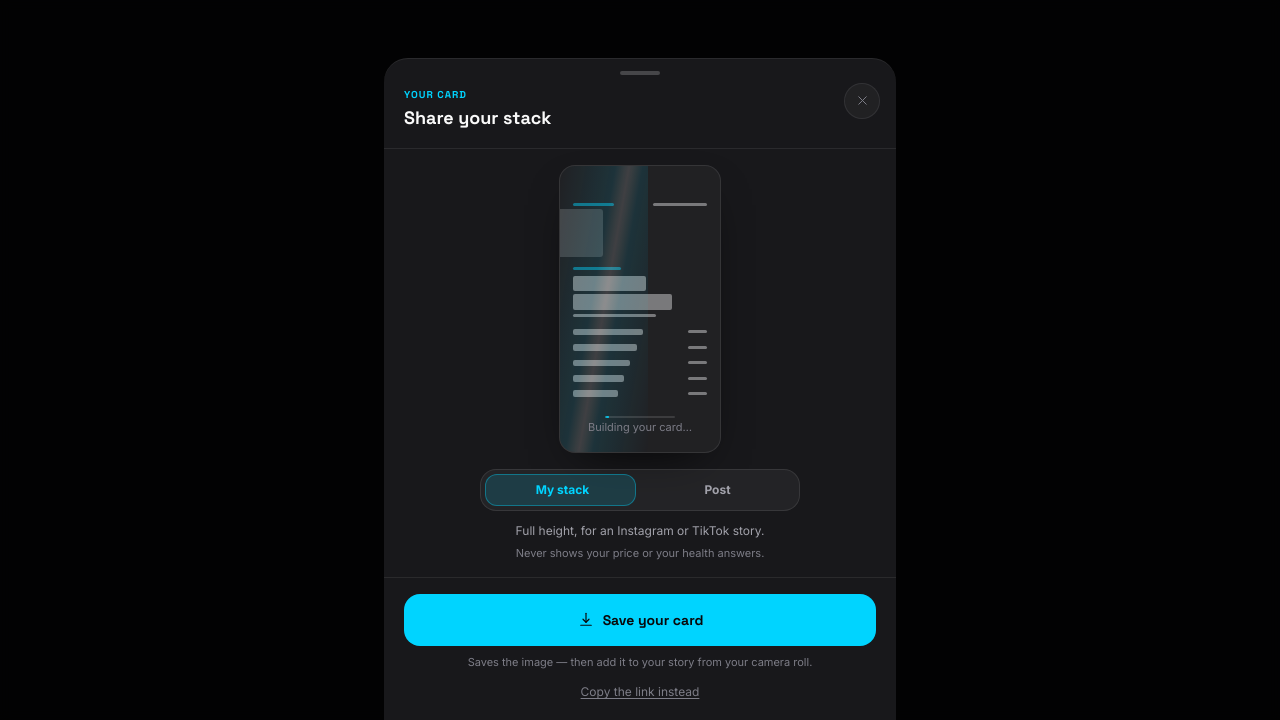
which card it opens on › leaves the tab alone once somebody has picked one
Click the tab "Post".
click(718, 490)  # box left=640, top=474, right=795, bottom=506
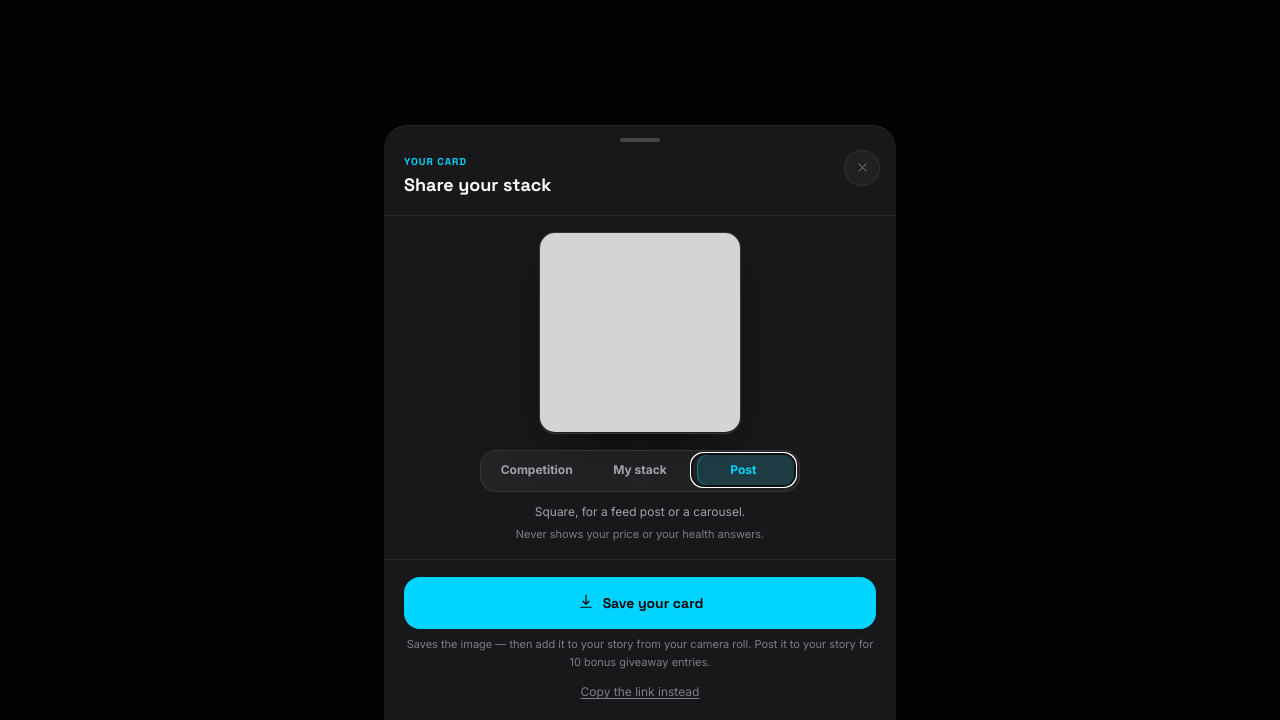
Expected: the tab "Competition" is shown, left=485, top=454, right=588, bottom=486
